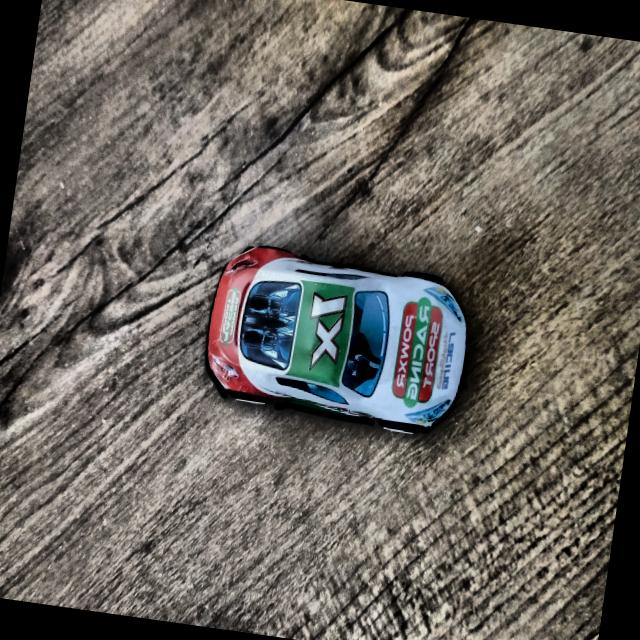Car: (190, 236, 480, 450)
